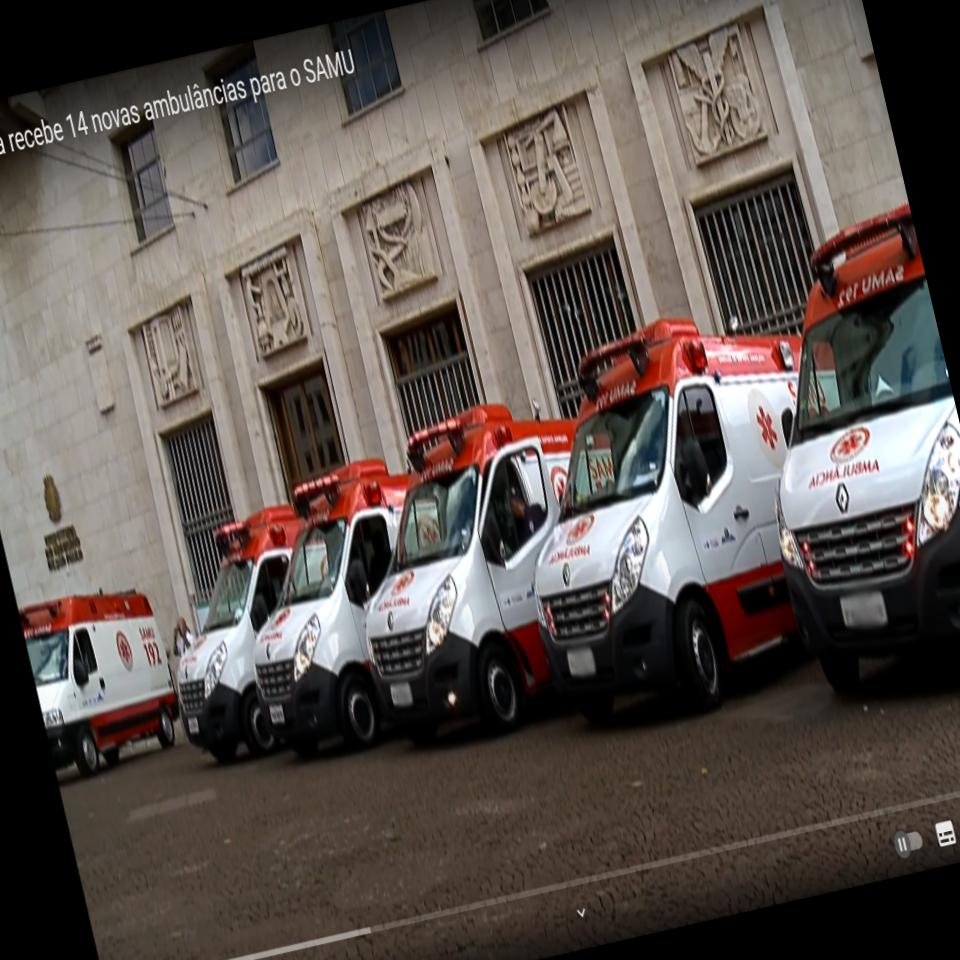bombeiro: (476, 288, 882, 744), (706, 194, 960, 726), (319, 387, 640, 766), (212, 453, 468, 770), (138, 498, 353, 773), (15, 569, 192, 780)
